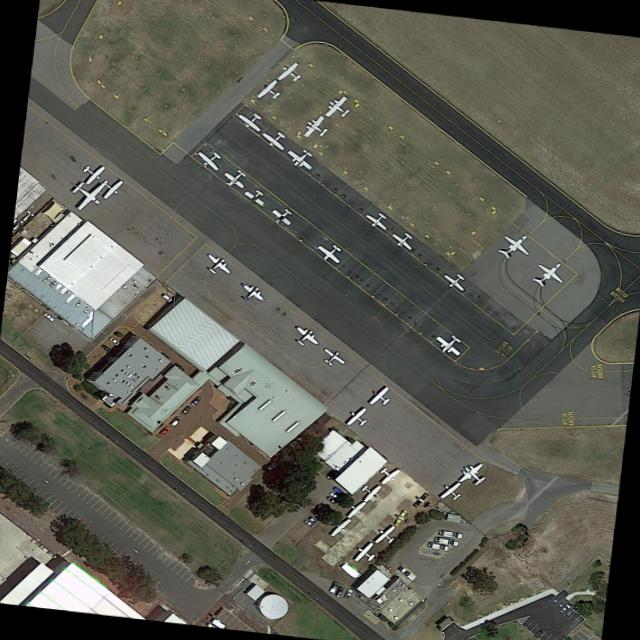large-vehicle: (397, 565, 417, 581), (438, 529, 462, 539), (434, 536, 458, 546), (426, 541, 448, 551)
plane: (59, 168, 112, 214), (494, 226, 538, 266), (527, 254, 571, 292), (453, 457, 492, 492), (319, 92, 357, 124), (232, 276, 269, 308), (198, 249, 235, 281), (285, 321, 322, 352), (431, 329, 467, 360), (363, 381, 397, 412), (90, 171, 125, 201), (299, 114, 335, 143), (284, 143, 318, 173), (192, 144, 227, 173), (220, 163, 253, 193), (434, 477, 467, 507), (314, 238, 348, 267), (76, 158, 107, 188), (236, 106, 268, 134), (340, 403, 373, 430), (315, 344, 349, 370), (260, 125, 291, 153), (274, 59, 306, 86), (254, 78, 287, 104), (389, 225, 420, 252), (363, 206, 394, 233), (350, 540, 380, 567), (370, 522, 399, 549), (267, 203, 297, 229), (242, 184, 270, 210), (440, 269, 470, 293), (357, 478, 383, 503), (327, 514, 353, 538), (375, 463, 402, 486), (341, 496, 368, 519), (410, 490, 435, 512), (390, 508, 414, 529)
small-vehicle: (159, 291, 173, 302), (42, 311, 55, 322), (107, 335, 120, 346), (534, 627, 546, 638), (100, 343, 112, 353), (158, 425, 170, 435), (190, 396, 201, 406), (559, 604, 571, 613), (329, 581, 338, 593), (343, 589, 353, 599), (170, 416, 180, 426), (334, 586, 343, 597), (181, 405, 191, 414), (304, 519, 315, 527), (326, 496, 336, 504), (566, 608, 575, 616), (309, 516, 317, 524), (330, 491, 338, 498)
storage-tank: (256, 592, 290, 620)
